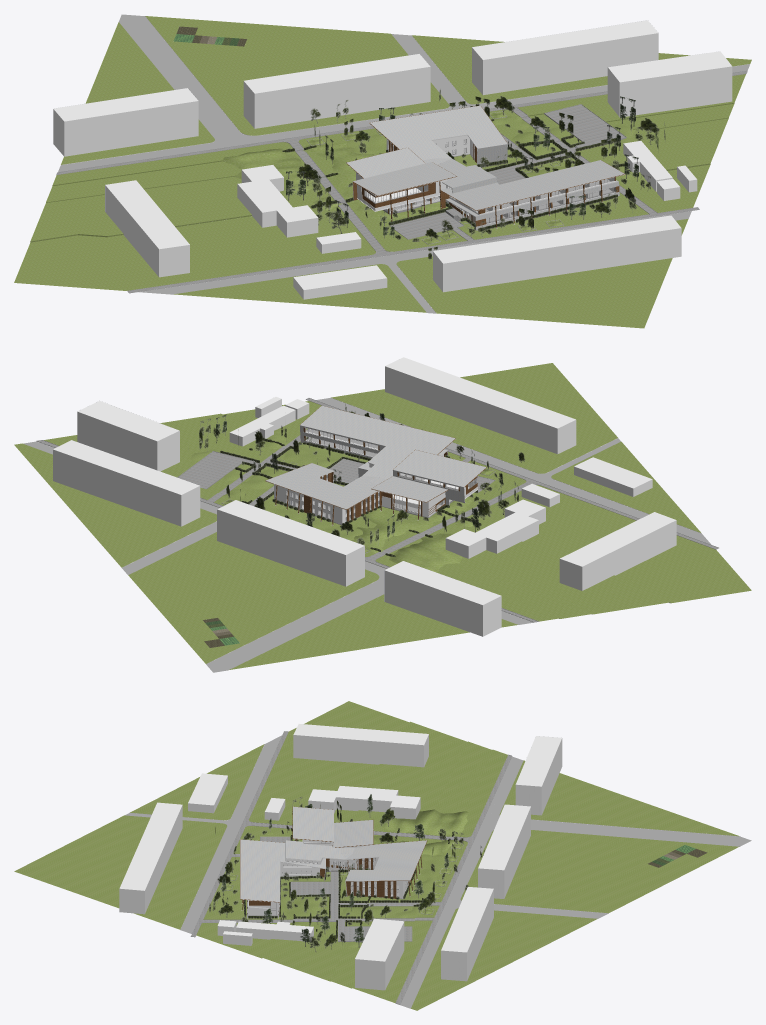
File: school.glb
3 renders of one model, top to bottom at view 1: azimuth 30°, elevation 25°; view 2: azimuth 150°, elevation 25°; view 3: azimuth 270°, elevation 25°, orthographic. The views are drawn at different scales.
Parts seen in each view (by area): view 1: Material3 (×5), Material2 (×10); view 2: Material3 (×5), Material2 (×6); view 3: Material3 (×4), Material2 (×7).
Boxes of the visible parts, left/top/right/bottom form: Material3 (×5): left=14, top=16, right=751, bottom=328; Material2 (×10): left=56, top=14, right=749, bottom=313; Material3 (×5): left=14, top=357, right=751, bottom=669; Material2 (×6): left=23, top=398, right=718, bottom=672; Material3 (×4): left=14, top=701, right=740, bottom=1010; Material2 (×7): left=125, top=731, right=751, bottom=1008.
Size of what is drawn, in the model's own units: 13686 by 717 by 13685.
Materials: 28 (22 with a texture image).
